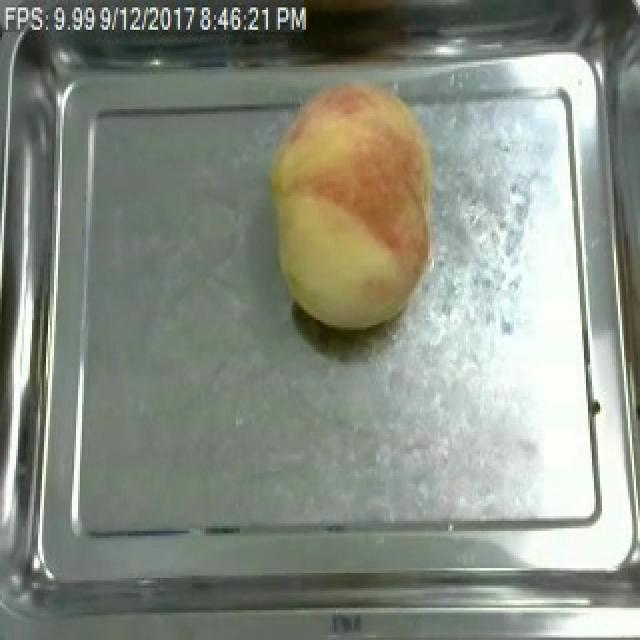Fruit: (260, 70, 448, 338)
